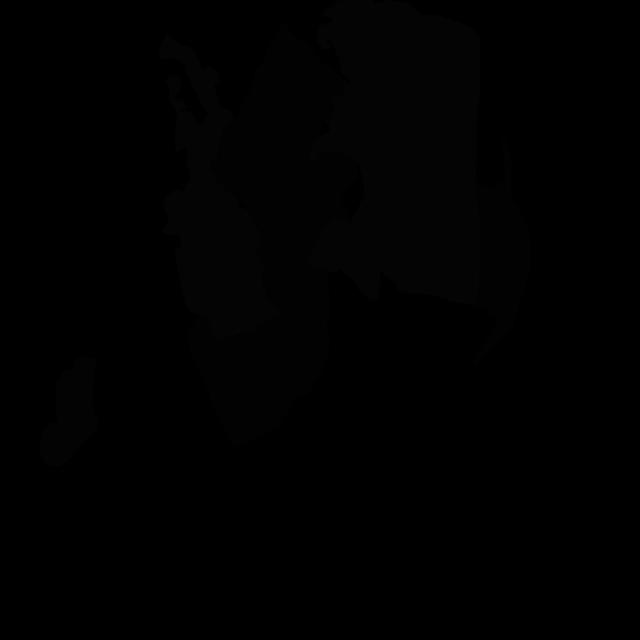cardboard: (186, 20, 358, 448), (473, 139, 532, 364)
metal: (40, 355, 98, 467)
soft_plastic: (306, 0, 480, 305), (158, 32, 282, 341)
